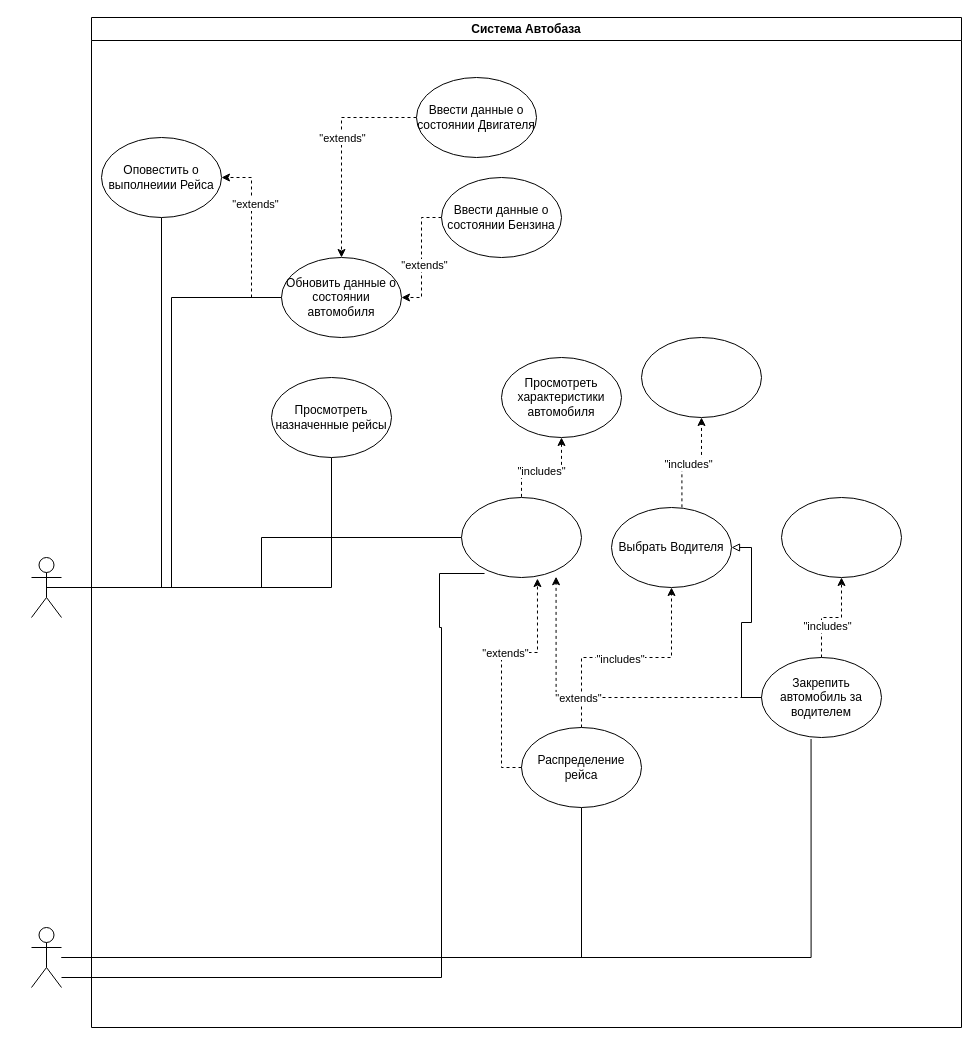
Image size: 979x1045. Some labels were removed from this diagram. The shapes that lost their labels are listed below. From the top down, each one's box as (x1, y1, x2, y2) in pixels, then its label:
(640, 336, 762, 418): Найти свободно Водителя с автомобилем
(460, 496, 582, 578): Просмотреть состояние автомобиля водителя
(780, 496, 902, 578): Выбрать Автомобиль
(30, 556, 62, 618): Водитель
(30, 926, 62, 988): Диспетчер
